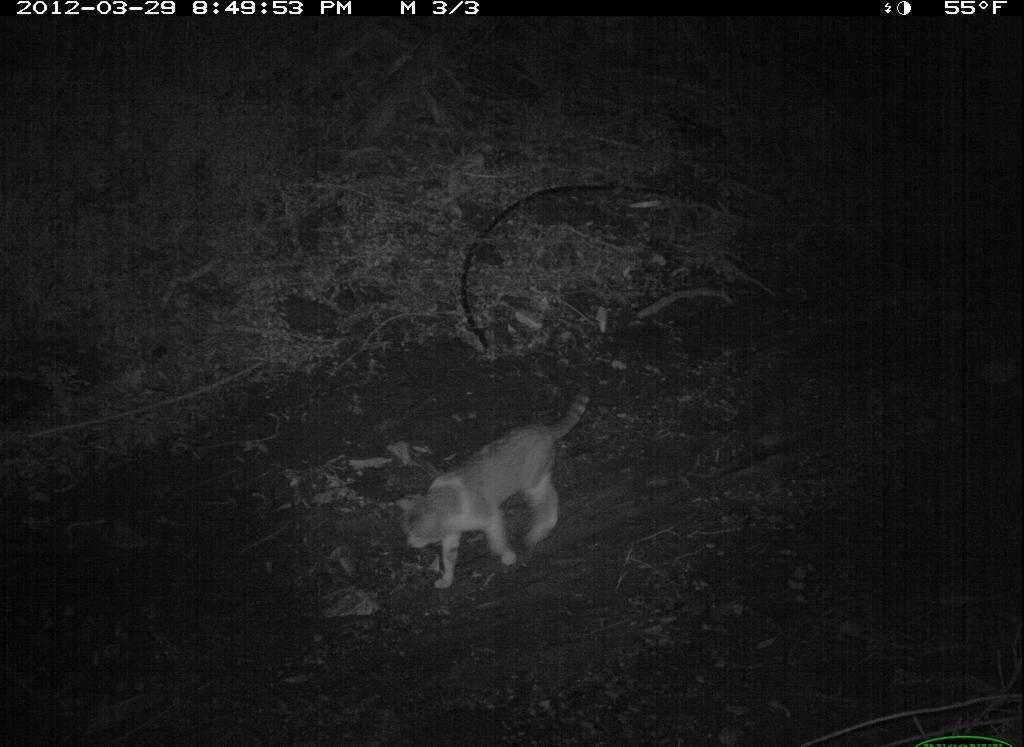cat: (392, 368, 599, 596)
